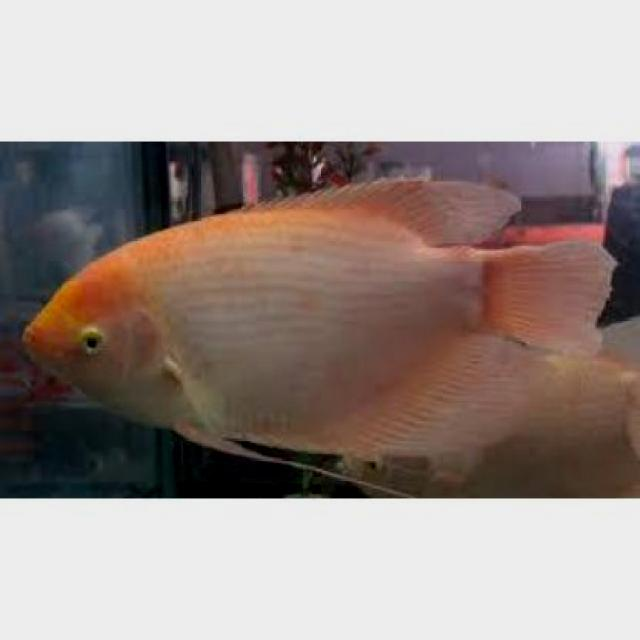gurame: (26, 182, 583, 446)
